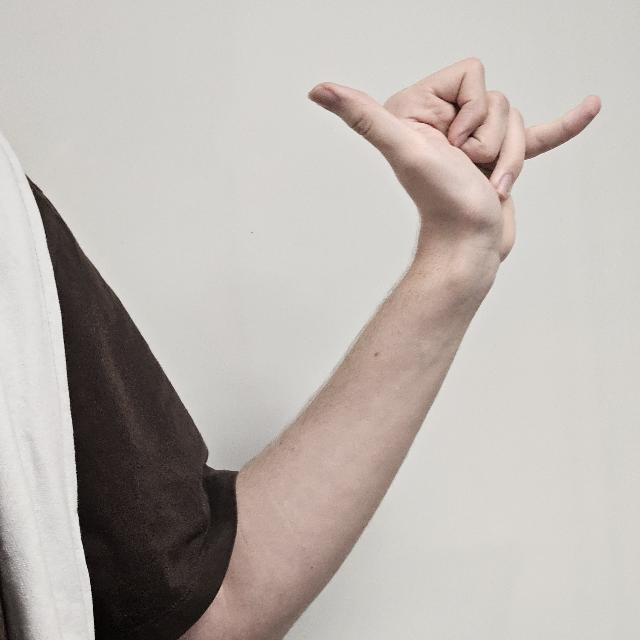Direita: (306, 60, 602, 274)
